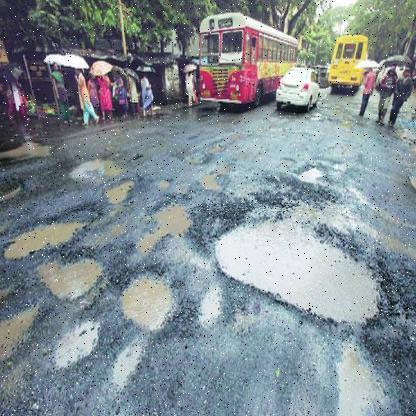pothole_water: (206, 192, 404, 338), (112, 246, 186, 350)
